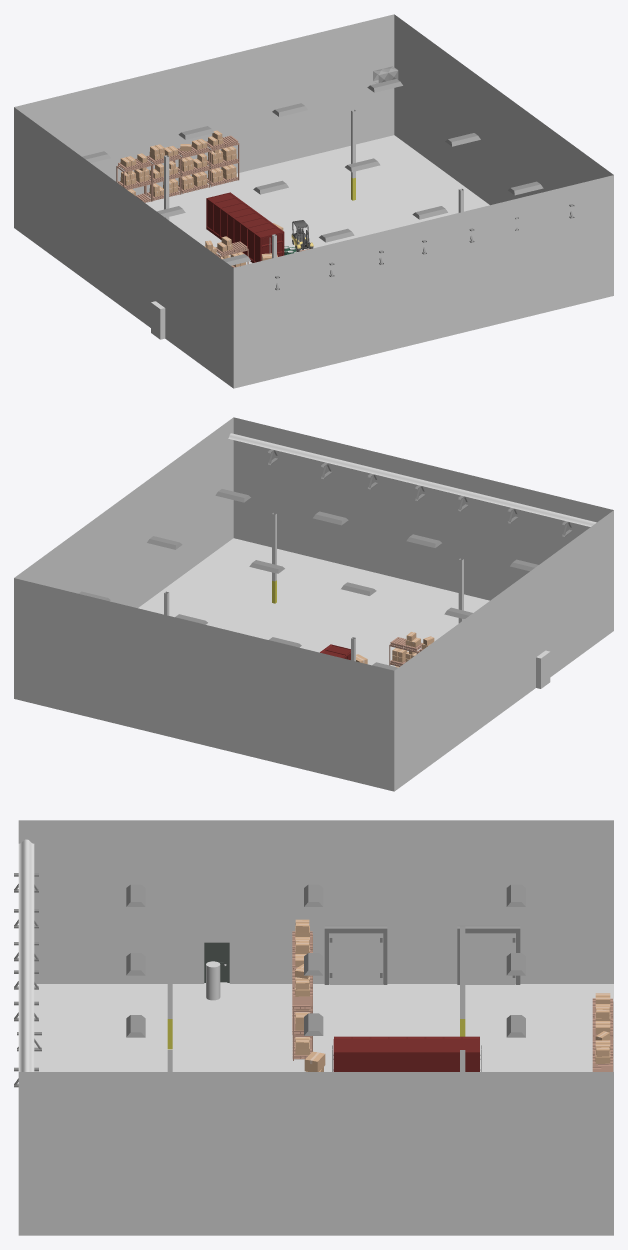
3 renders of one model, top to bottom at view 1: azimuth 30°, elevation 25°; view 2: azimuth 150°, elevation 25°; view 3: azimuth 270°, elevation 25°, orthographic. The views are drawn at different scales.
Parts seen in each view (by area): view 1: walls, Circle, supports, Cube.019; view 2: walls, roof, supports, Cube.019; view 3: walls, Circle, roof, Cube.004, Cube.005, Cube.019, supports, basic_door, person_scale.
Boxes of the visible parts, bbox=[...] form: walls: bbox=[14, 14, 613, 388]; Circle: bbox=[206, 192, 284, 262]; supports: bbox=[164, 109, 463, 258]; Cube.019: bbox=[204, 236, 248, 267]; walls: bbox=[14, 417, 613, 791]; roof: bbox=[228, 433, 596, 526]; supports: bbox=[164, 512, 463, 661]; Cube.019: bbox=[389, 632, 434, 667]; walls: bbox=[18, 820, 613, 1235]; Circle: bbox=[332, 1036, 481, 1071]; roof: bbox=[18, 839, 34, 1071]; Cube.004: bbox=[324, 925, 387, 984]; Cube.005: bbox=[457, 925, 520, 984]; Cube.019: bbox=[292, 919, 312, 1060]; supports: bbox=[167, 926, 465, 1071]; basic_door: bbox=[206, 943, 227, 982]; person_scale: bbox=[206, 961, 220, 1000].
Bounding box in the file's own units: 46.89 × 46.67 × 14.08.
